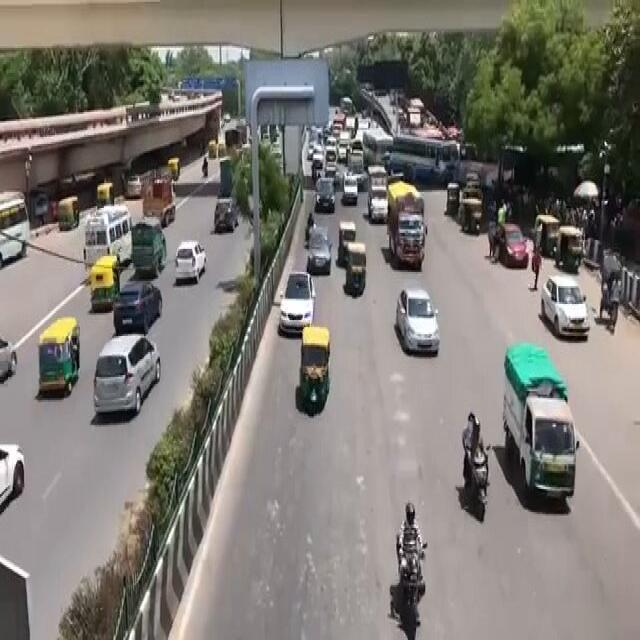three_wheeler: (288, 325, 339, 427)
